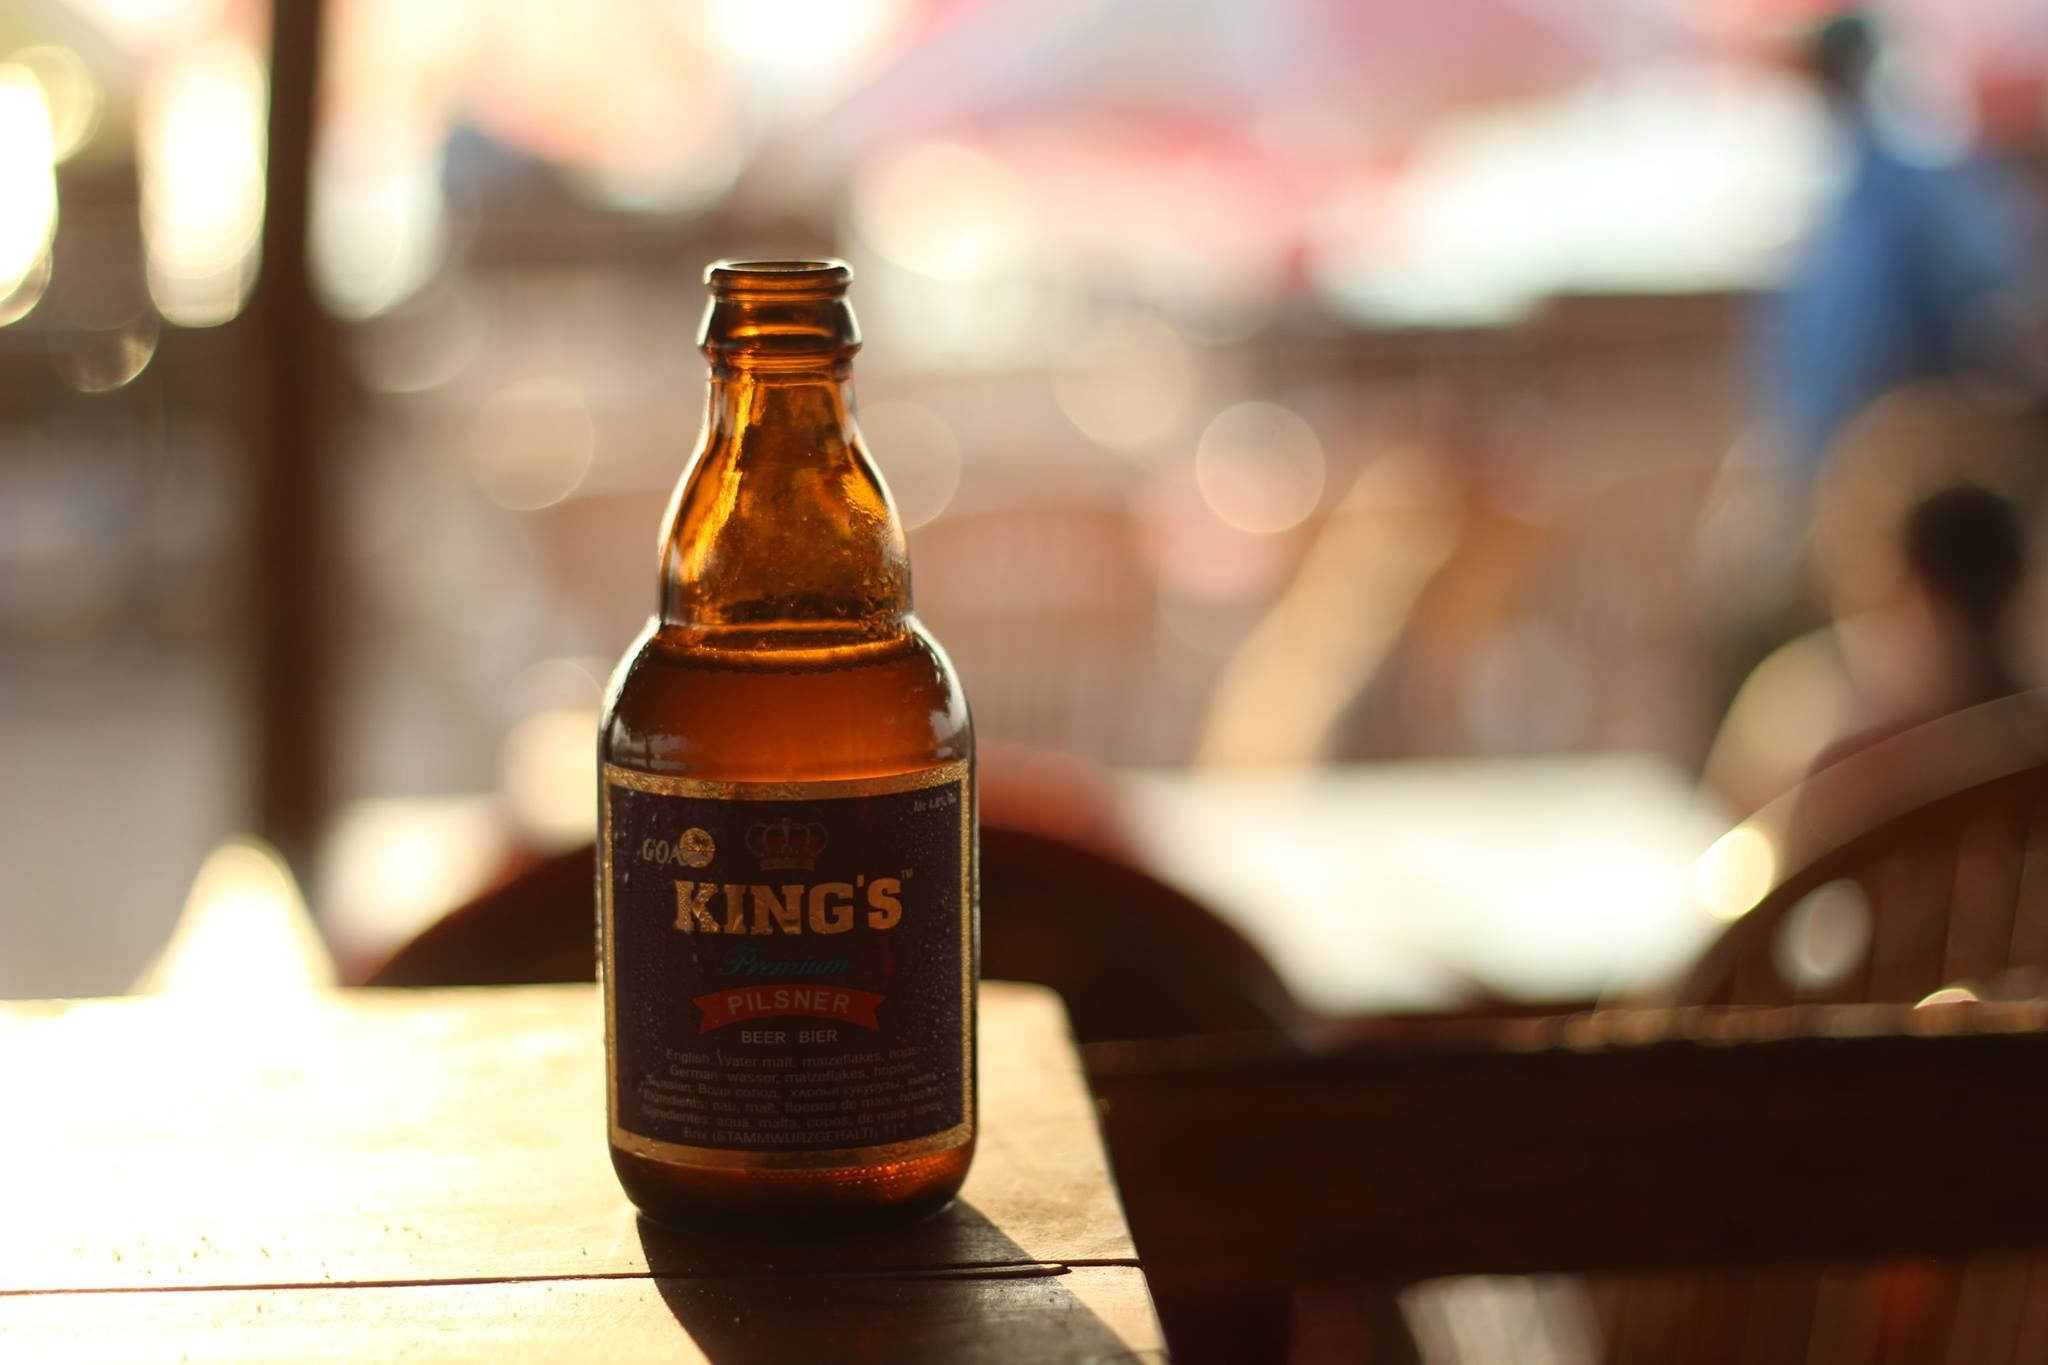beerBottle: (591, 261, 985, 1242)
